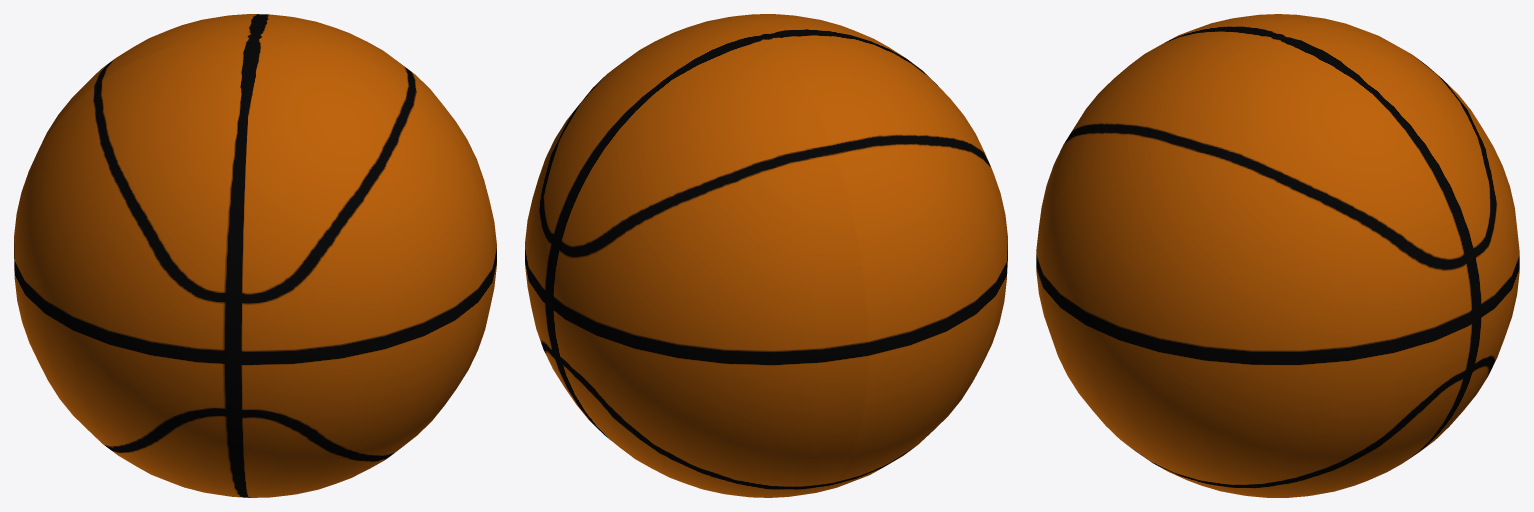
Rendered from Basketball.fbx.
The picture shows the model from 3 angles, left to right: view 1: azimuth 30°, elevation 25°; view 2: azimuth 150°, elevation 25°; view 3: azimuth 270°, elevation 25°; orthographic projection.
Visible parts, largest first — view 1: BasketBall; view 2: BasketBall; view 3: BasketBall.
Boxes of the visible parts, x1,y1,x2,y2 form: BasketBall: [14, 14, 496, 497]; BasketBall: [525, 14, 1007, 497]; BasketBall: [1036, 14, 1519, 497].
Bounding box in the file's own units: 355 × 356 × 355.
